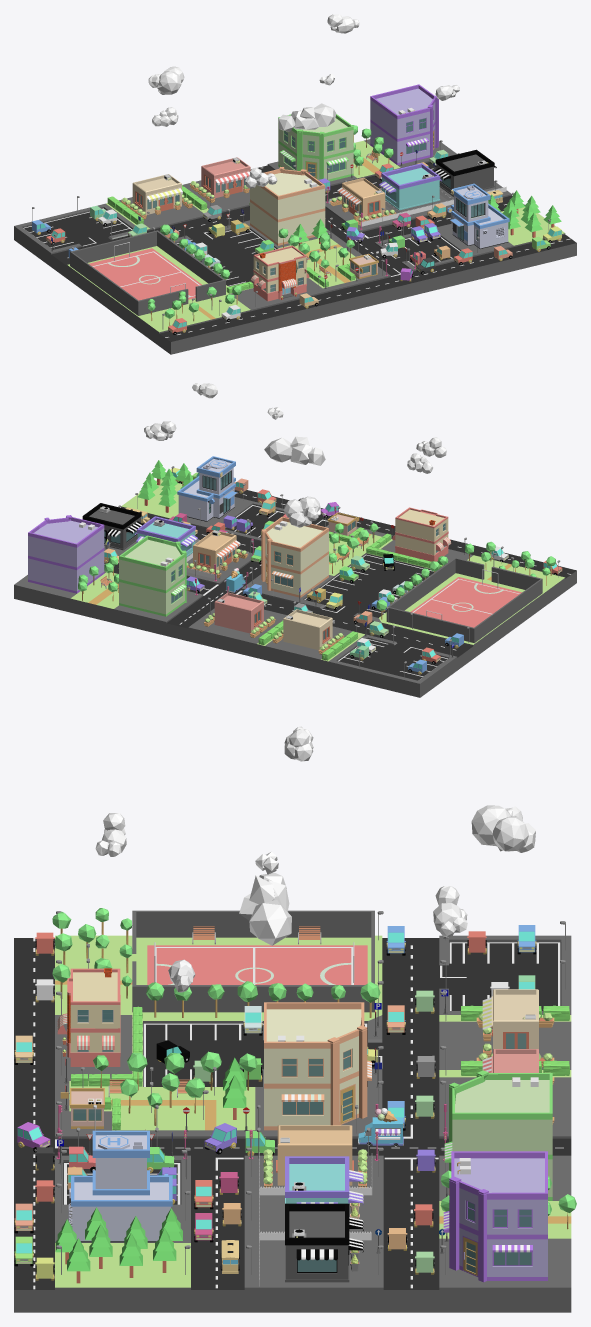
File: city.glb
3 renders of one model, top to bottom at view 1: azimuth 30°, elevation 25°; view 2: azimuth 150°, elevation 25°; view 3: azimuth 270°, elevation 25°, orthographic. The views are drawn at different scales.
Visible parts, largest first — view 1: plane_materiale base_0, Cube.002_materiale base_0, vetro.016_materiale base_0, tenda.006_materiale base_0, Sphere.001_materiale base_0, tenda.005_materiale base_0, police station_materiale base_0, pizzeria_materiale base_0, base casa.002_materiale base_0, base casa.003_materiale base_0, Icosphere.008_materiale base_0, vetro.017_materiale base_0 (+12 smaller); view 2: plane_materiale base_0, tenda.006_materiale base_0, Cube.002_materiale base_0, tenda.005_materiale base_0, vetro.016_materiale base_0, Sphere.001_materiale base_0, police station_materiale base_0, pizzeria_materiale base_0, vetro.017_materiale base_0, Icosphere.008_materiale base_0, casa.006_materiale base_0, base casa.003_materiale base_0 (+11 smaller); view 3: plane_materiale base_0, tenda.006_materiale base_0, vetro.016_materiale base_0, Cube.002_materiale base_0, Sphere.001_materiale base_0, tenda.005_materiale base_0, police station_materiale base_0, base casa.003_materiale base_0, pizzeria_materiale base_0, road lines_materiale base_0, Cube.001_materiale base_0, base casa.002_materiale base_0 (+15 smaller).
Boxes of the visible parts, x1,y1,x2,y2 form: plane_materiale base_0: (14,139,576,354); Cube.002_materiale base_0: (70,230,225,315); vetro.016_materiale base_0: (250,166,325,245); tenda.006_materiale base_0: (370,84,438,165); Sphere.001_materiale base_0: (148,14,459,188); tenda.005_materiale base_0: (278,114,353,181); police station_materiale base_0: (447,183,509,248); pizzeria_materiale base_0: (250,245,309,301); base casa.002_materiale base_0: (379,163,441,210); base casa.003_materiale base_0: (433,149,496,196); Icosphere.008_materiale base_0: (121,174,192,219); vetro.017_materiale base_0: (189,157,250,202); plane_materiale base_0: (14,478,576,697); tenda.006_materiale base_0: (28,515,104,593); Cube.002_materiale base_0: (386,557,542,643); tenda.005_materiale base_0: (119,535,186,616); vetro.016_materiale base_0: (261,516,328,597); Sphere.001_materiale base_0: (144,383,446,527); police station_materiale base_0: (177,456,237,521); pizzeria_materiale base_0: (392,507,451,561); vetro.017_materiale base_0: (204,592,275,637); Icosphere.008_materiale base_0: (272,609,344,654); casa.006_materiale base_0: (186,530,247,578); base casa.003_materiale base_0: (82,503,143,550); plane_materiale base_0: (14,935,571,1312); tenda.006_materiale base_0: (443,1151,547,1282); vetro.016_materiale base_0: (264,1002,371,1130); Cube.002_materiale base_0: (132,910,374,1012); Sphere.001_materiale base_0: (95,726,535,992); tenda.005_materiale base_0: (444,1070,552,1200); police station_materiale base_0: (68,1129,172,1242); base casa.003_materiale base_0: (285,1203,363,1282); pizzeria_materiale base_0: (57,968,120,1066); road lines_materiale base_0: (33,938,563,1289); Cube.001_materiale base_0: (55,1207,182,1283); base casa.002_materiale base_0: (285,1156,363,1219).
Bounding box in the file's own units: 128 × 56.28 × 86.81.
6 materials, 4 textured.
